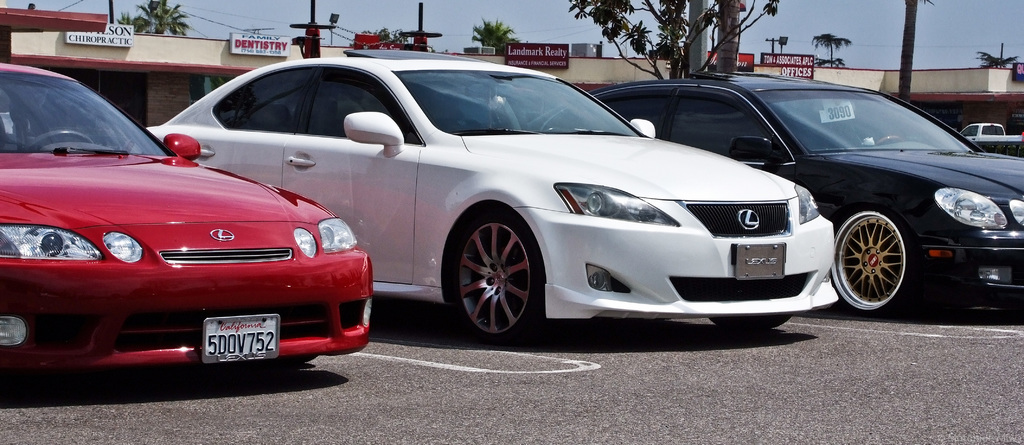Wheel: (446, 198, 555, 336), (825, 209, 924, 322)
